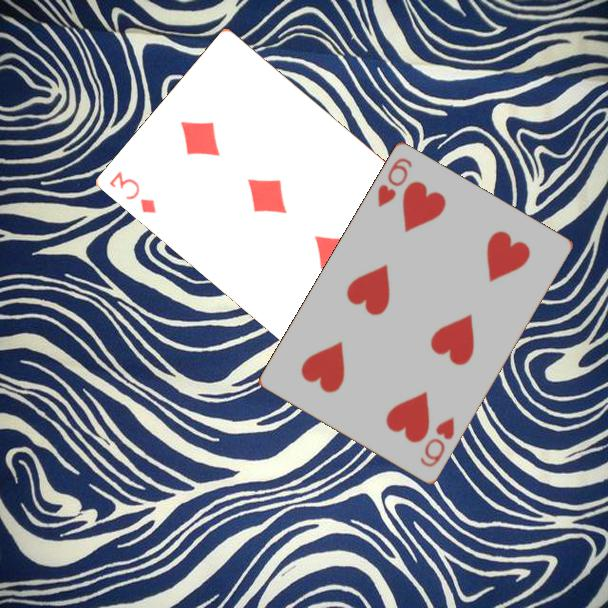d03: (106, 167, 160, 216)
h06: (417, 414, 458, 470), (374, 155, 415, 211)
